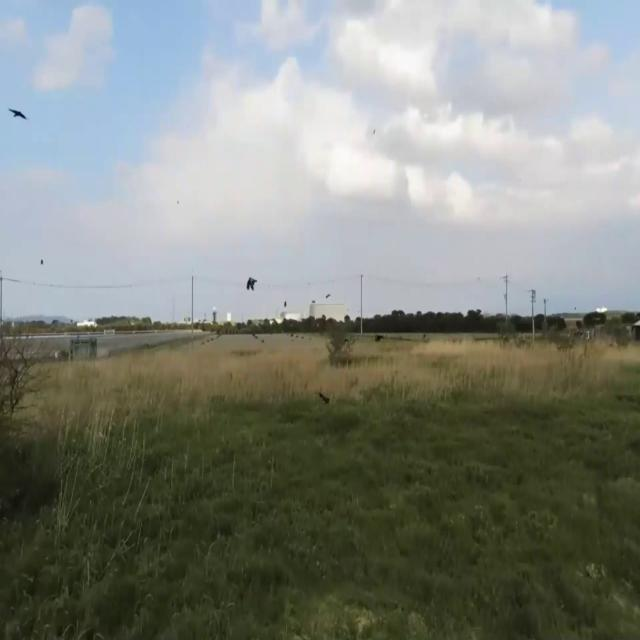bird: (7, 93, 28, 134), (245, 268, 258, 300), (318, 385, 331, 412)
